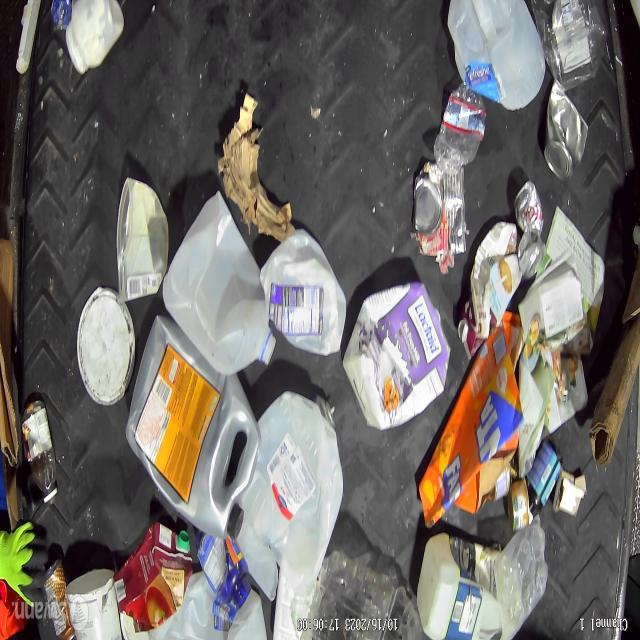can: (412, 164, 464, 253), (544, 81, 588, 180), (515, 179, 544, 280)
milk_jug: (160, 192, 278, 377), (244, 399, 340, 599), (448, 0, 546, 111), (265, 231, 345, 358)
non_white_jug: (127, 316, 250, 551), (357, 293, 447, 403), (116, 516, 191, 634)
plastic_bottle: (434, 92, 484, 178), (21, 399, 58, 508)
